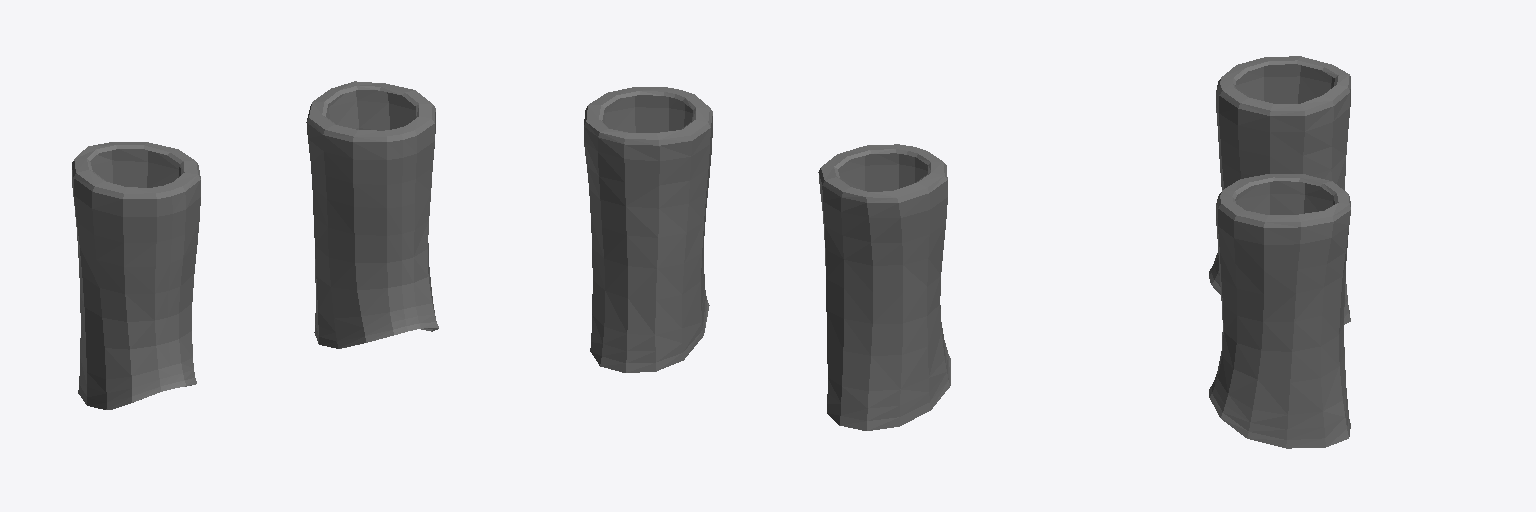
Rendered from LowPoly_Apostador_BotasParte02.obj.
3 renders of one model, left to right at view 1: azimuth 30°, elevation 25°; view 2: azimuth 150°, elevation 25°; view 3: azimuth 270°, elevation 25°, orthographic.
Parts seen in each view (by area): view 1: LowPoly_Apostador_BotasParte02; view 2: LowPoly_Apostador_BotasParte02; view 3: LowPoly_Apostador_BotasParte02.
Part boxes in pixels (x1,y1,x2,y2): LowPoly_Apostador_BotasParte02: (72,81,438,409); LowPoly_Apostador_BotasParte02: (584,87,950,430); LowPoly_Apostador_BotasParte02: (1209,56,1350,448).
Bounding box in the file's own units: 27.88 × 18.34 × 10.